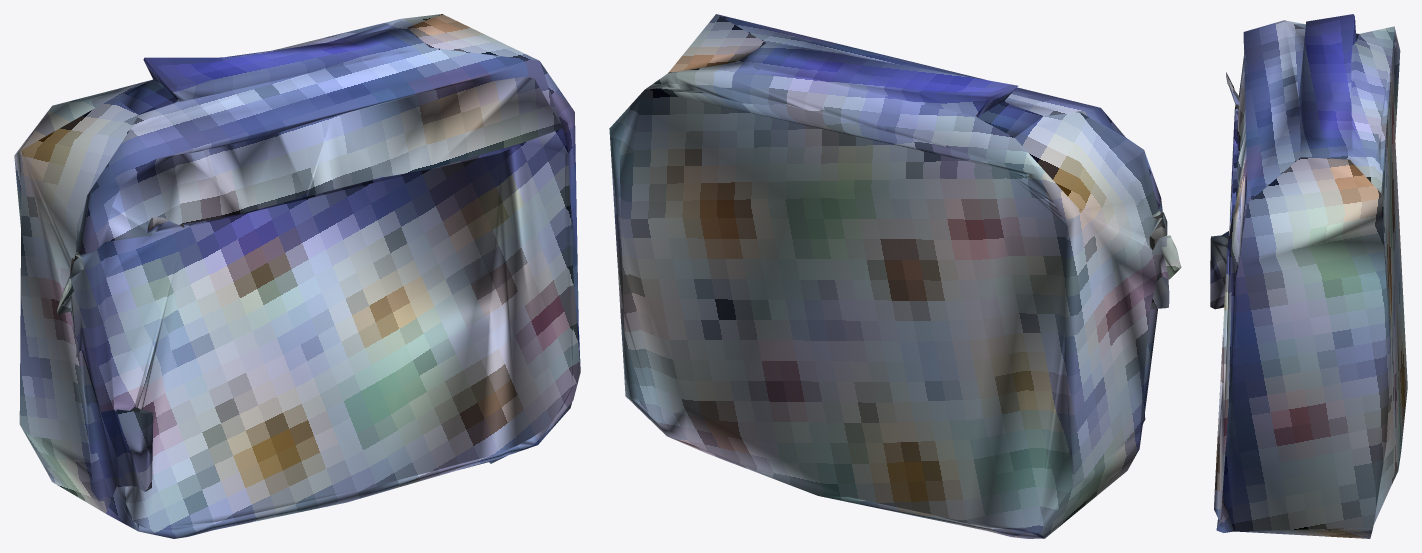
Rendered from Olive_Kids_Game_On_Lunch_Box-low.glb.
3 views of the same model, side by side, from view 1: azimuth 30°, elevation 25°; view 2: azimuth 150°, elevation 25°; view 3: azimuth 270°, elevation 25° (orthographic). The views are drawn at different scales.
Visible parts, largest first — view 1: Olive_Kids_Game_On_Lunch_Box; view 2: Olive_Kids_Game_On_Lunch_Box; view 3: Olive_Kids_Game_On_Lunch_Box.
Part boxes in pixels (<box>): Olive_Kids_Game_On_Lunch_Box: <box>14,14,580,538</box>; Olive_Kids_Game_On_Lunch_Box: <box>609,14,1181,538</box>; Olive_Kids_Game_On_Lunch_Box: <box>1210,14,1407,538</box>.
Bounding box in the file's own units: 0.2662 × 0.2169 × 0.0977.
1 material, 1 textured.
